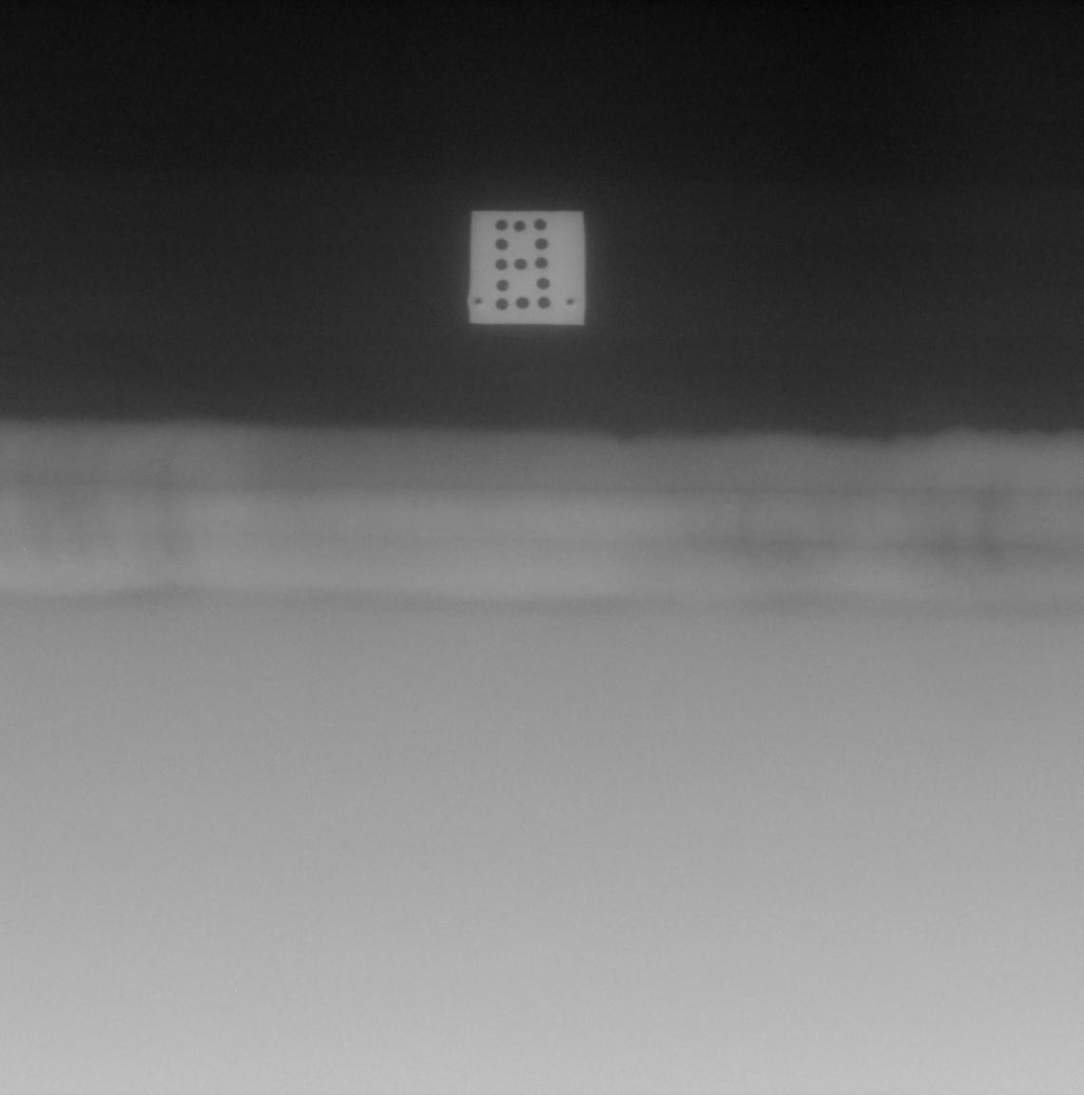Pore/Porosity: (738, 537, 744, 542), (742, 507, 747, 510)
